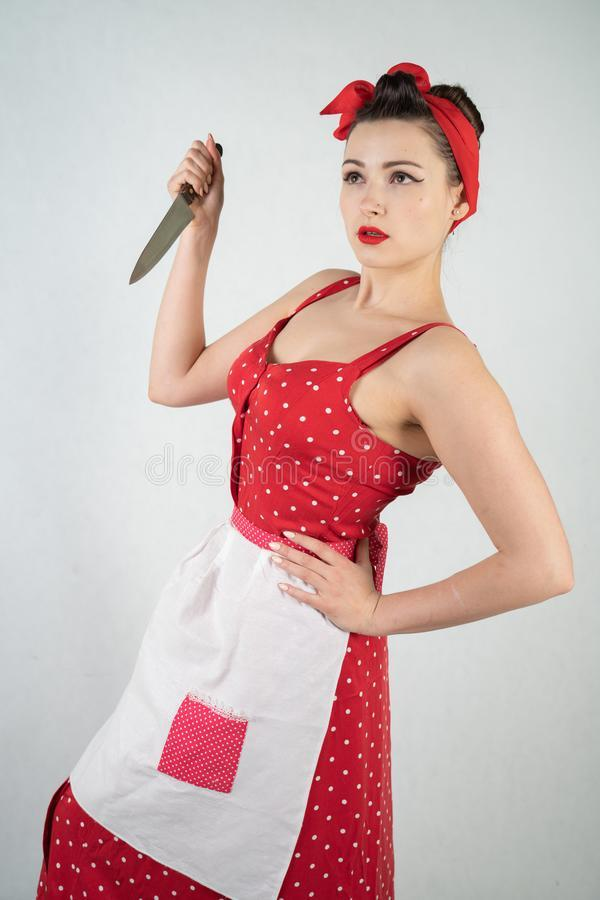criminal: (35, 56, 578, 900)
weapon: (127, 134, 228, 289)
